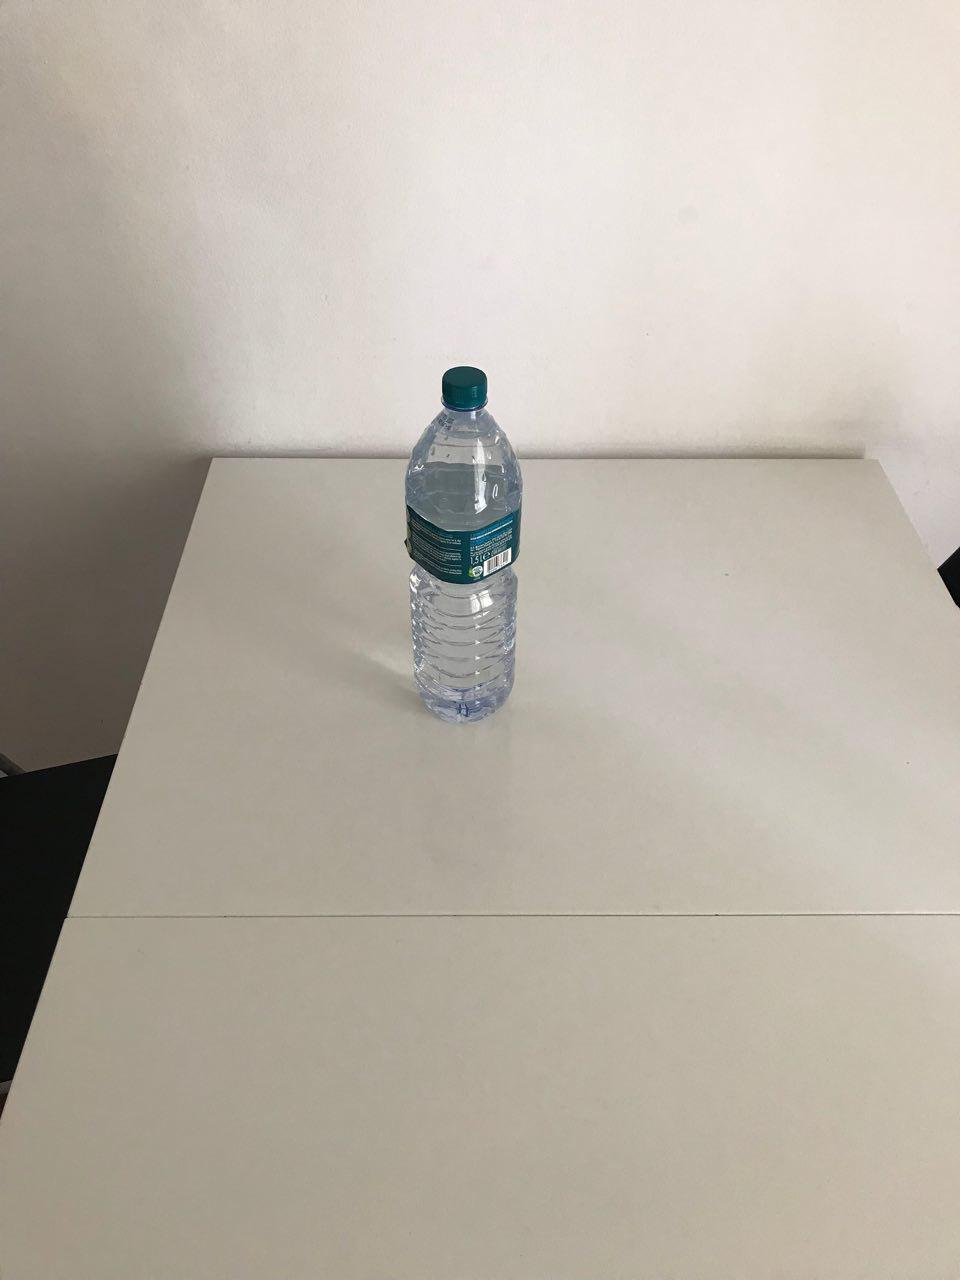san_bernardo: (403, 365, 524, 729)
